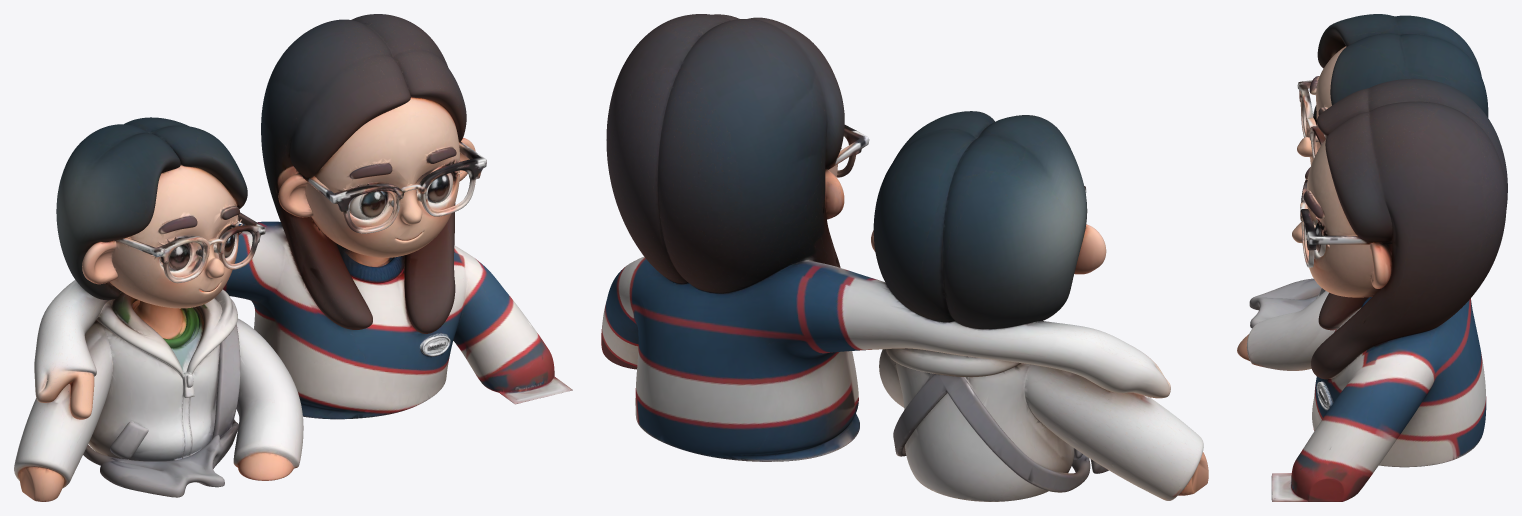
Rendered from anniversary-model.glb.
The picture shows the model from 3 angles, left to right: view 1: azimuth 30°, elevation 25°; view 2: azimuth 150°, elevation 25°; view 3: azimuth 270°, elevation 25°; orthographic projection. The views are drawn at different scales.
Parts seen in each view (by area): view 1: node_0; view 2: node_0; view 3: node_0.
Part boxes in pixels (x1,y1,x2,y2): node_0: (14,14,572,501); node_0: (601,14,1208,501); node_0: (1237,14,1507,501).
Size of the model in its own units: 0.9809 by 0.6334 by 0.4441.
1 material, 1 textured.
